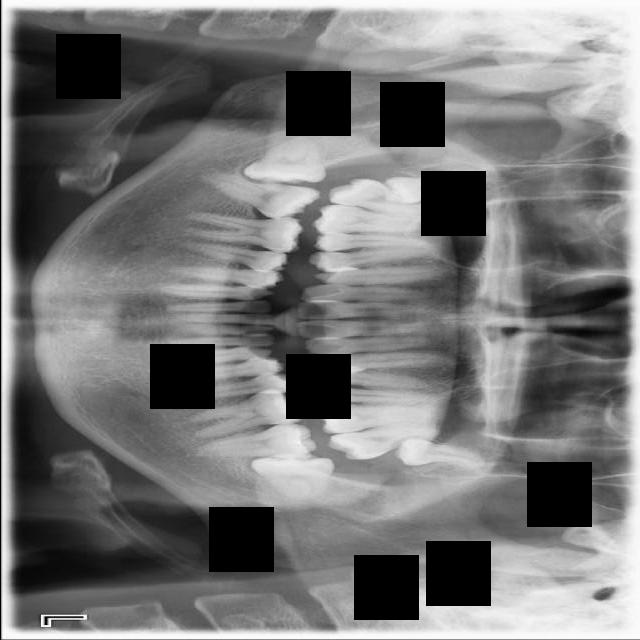3M ESPE Implant: (376, 168, 481, 207)
52: (239, 173, 266, 186)
73: (57, 598, 65, 602)
BioHorizons Implant: (325, 419, 438, 465)
BioLife Implant: (394, 437, 482, 467)
Blue Sky Bio Implant: (197, 421, 317, 459)
Caries: (325, 171, 444, 225)
Implant: (208, 168, 321, 227)
Keystone Dental Implant: (243, 137, 326, 184)
